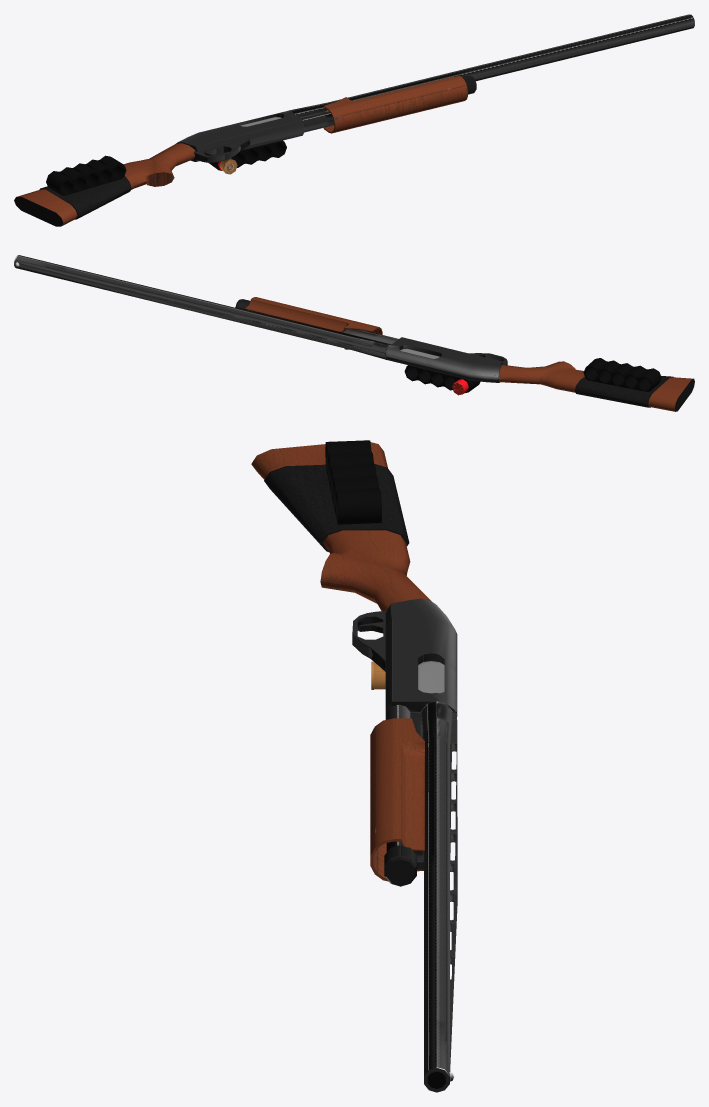
The picture shows the model from 3 angles, top to bottom: view 1: azimuth 30°, elevation 25°; view 2: azimuth 150°, elevation 25°; view 3: azimuth 270°, elevation 25°; orthographic projection. The views are drawn at different scales.
Parts seen in each view (by area): view 1: remmington 870; view 2: remmington 870; view 3: remmington 870.
Part boxes in pixels (box(x1,y1,x2,y2)): remmington 870: box(14, 14, 694, 226); remmington 870: box(14, 255, 694, 411); remmington 870: box(251, 440, 457, 1092).
Bounding box in the file's own units: 484 × 32.25 × 67.15.
